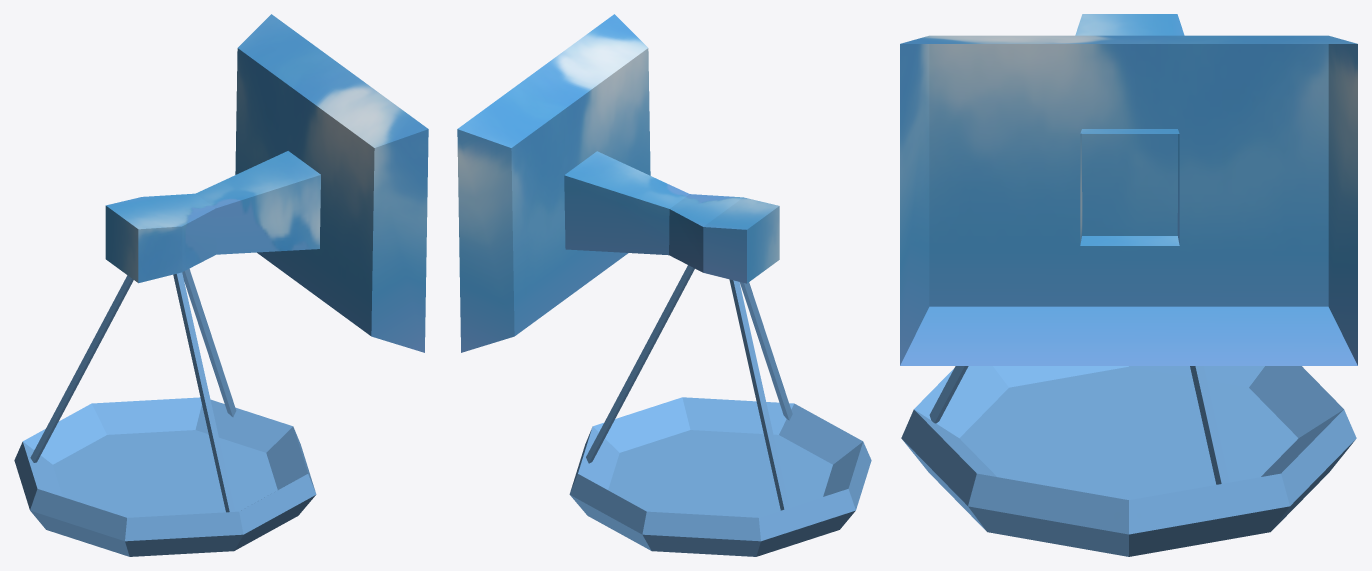
The model's file is ludeng.FBX.
3 views of the same model, side by side, from view 1: azimuth 30°, elevation 25°; view 2: azimuth 150°, elevation 25°; view 3: azimuth 270°, elevation 25° (orthographic). The views are drawn at different scales.
Parts seen in each view (by area): view 1: ludeng; view 2: ludeng; view 3: ludeng.
Boxes of the visible parts, bbox=[...] form: ludeng: bbox=[14, 14, 428, 556]; ludeng: bbox=[457, 14, 871, 556]; ludeng: bbox=[900, 14, 1357, 556].
Size of the model in its own units: 133 by 153 by 113.
